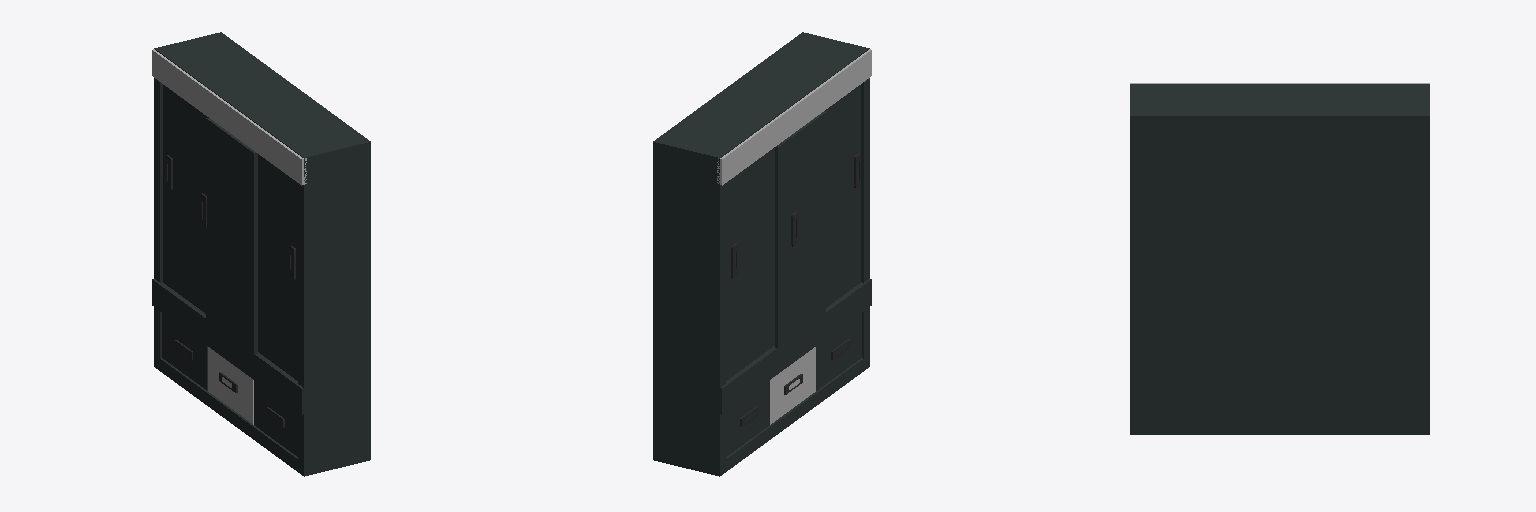
Rendered from guardaroupa.obj.
3 views of the same model, side by side, from view 1: azimuth 30°, elevation 25°; view 2: azimuth 150°, elevation 25°; view 3: azimuth 270°, elevation 25° (orthographic).
Parts seen in each view (by area): view 1: Cubo.003; view 2: Cubo.003; view 3: Cubo.003.
Part boxes in pixels (x1,y1,x2,y2): Cubo.003: (152,32,370,476); Cubo.003: (653,32,871,476); Cubo.003: (1130,83,1429,434).
Size of the model in its own units: 0.4793 by 1.82 by 1.55.